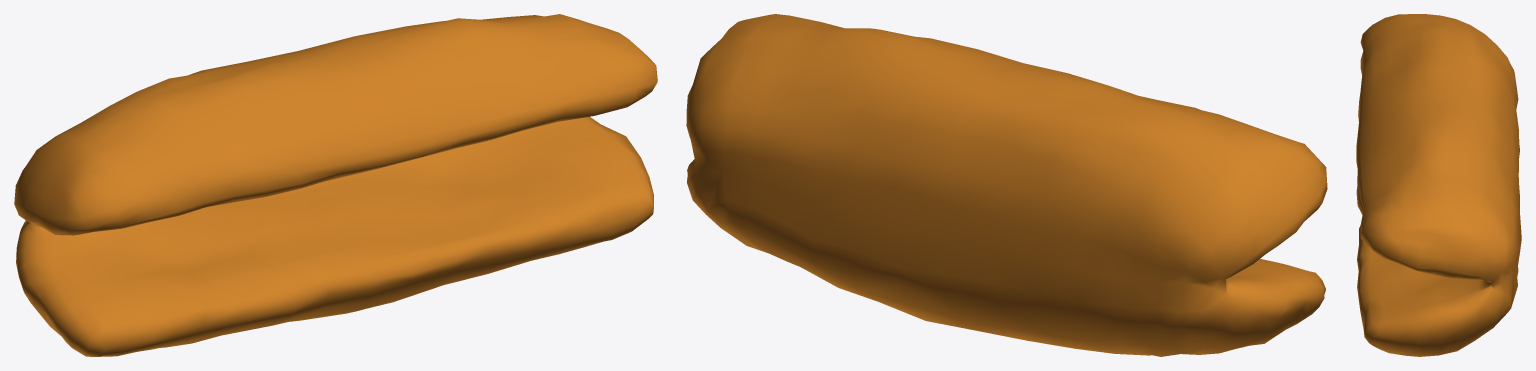
The picture shows the model from 3 angles, left to right: view 1: azimuth 30°, elevation 25°; view 2: azimuth 150°, elevation 25°; view 3: azimuth 270°, elevation 25°; orthographic projection. The views are drawn at different scales.
Size of the model in its own units: 0.8637 by 0.3472 by 0.2678.
